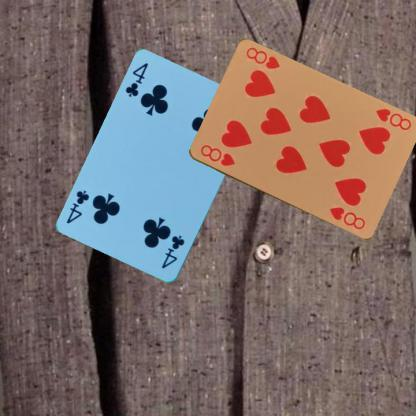4c: (123, 60, 150, 99), (159, 233, 186, 270)
8h: (372, 106, 413, 132), (198, 142, 236, 168)
